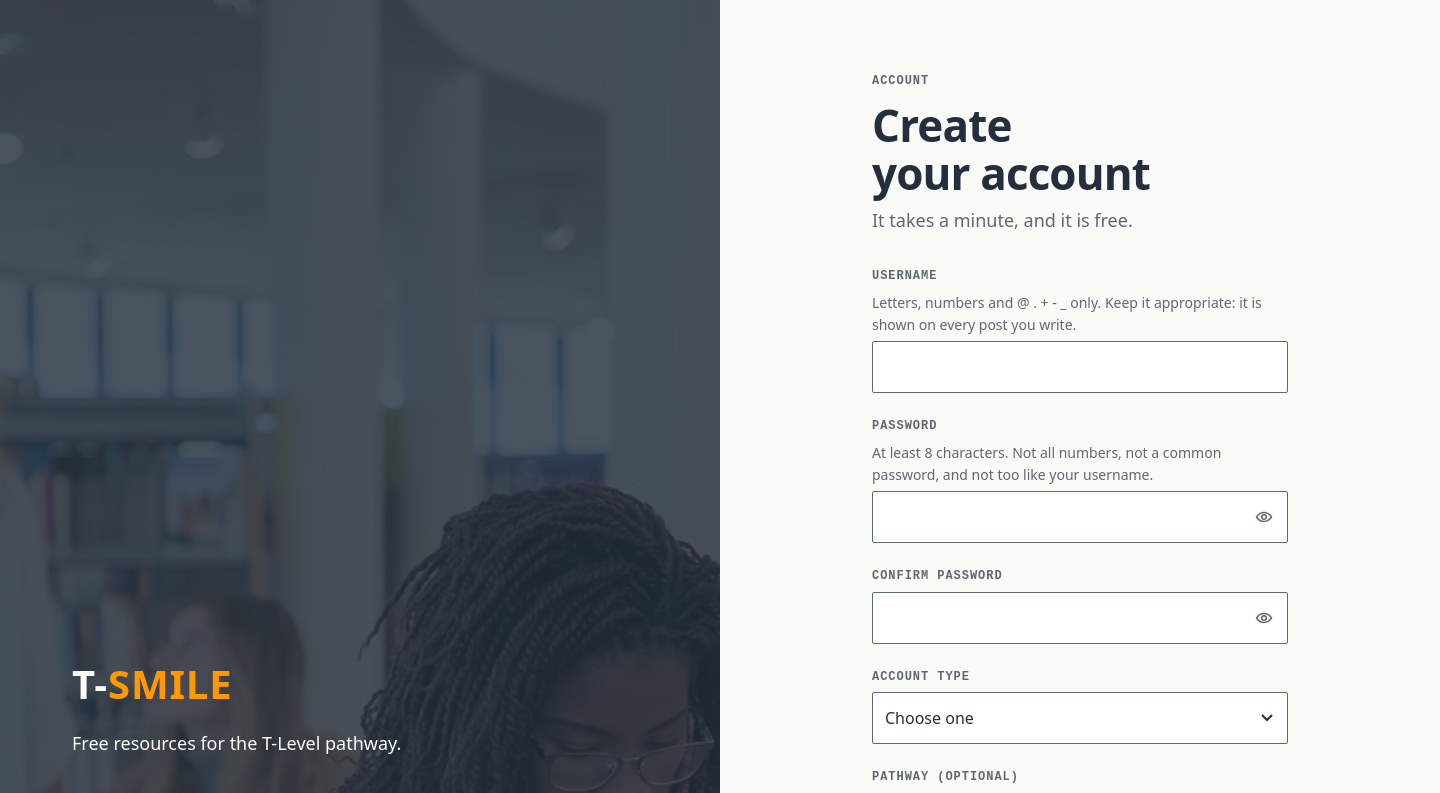
Scenario: Sign up: the username field › refuses an empty username without asking the server
Type "harbour-lantern-47" into the password field labelled "Password" at (1080, 517), box [872,491,1288,543]
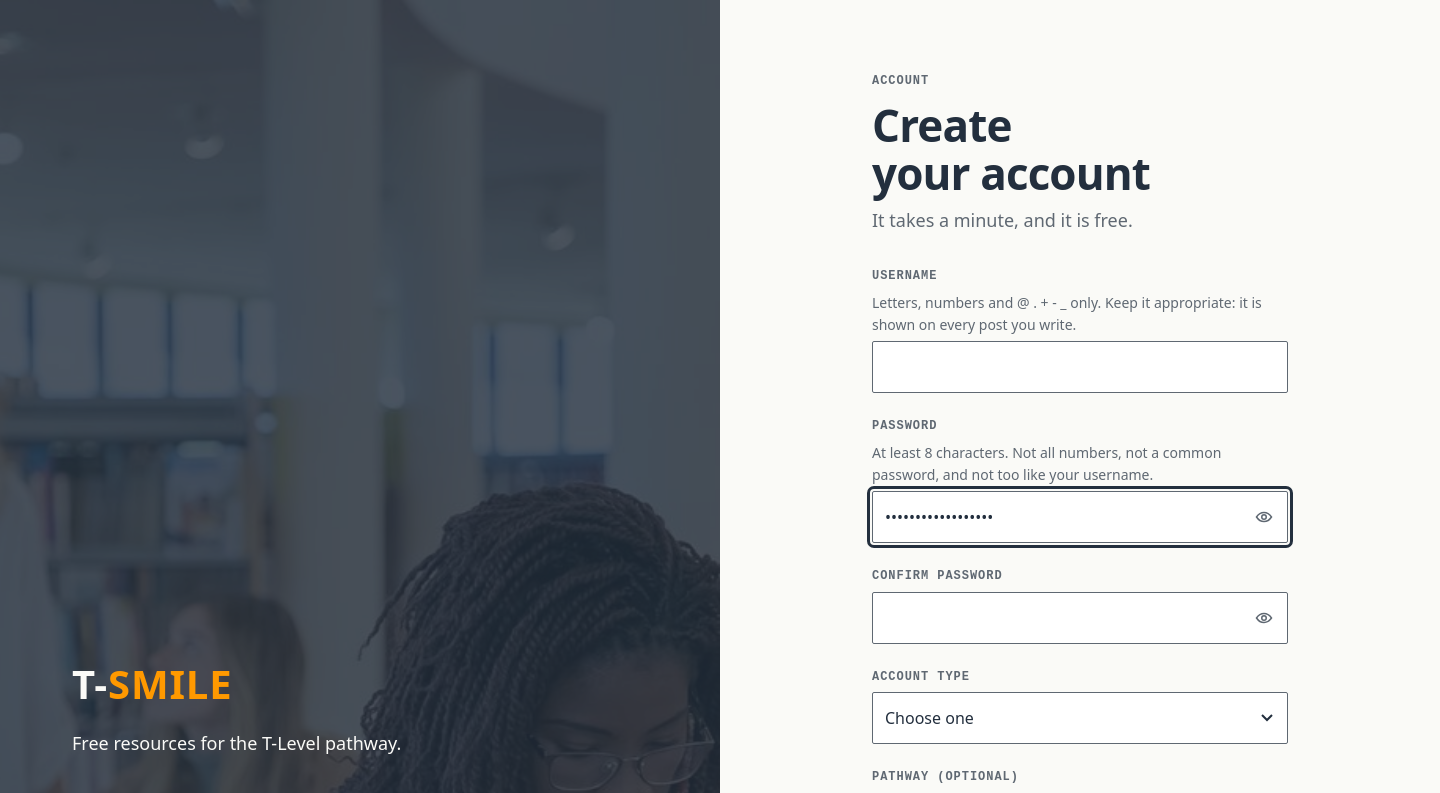
Type "harbour-lantern-47" into the password field labelled "Confirm password" at (1080, 618), box [872,592,1288,644]
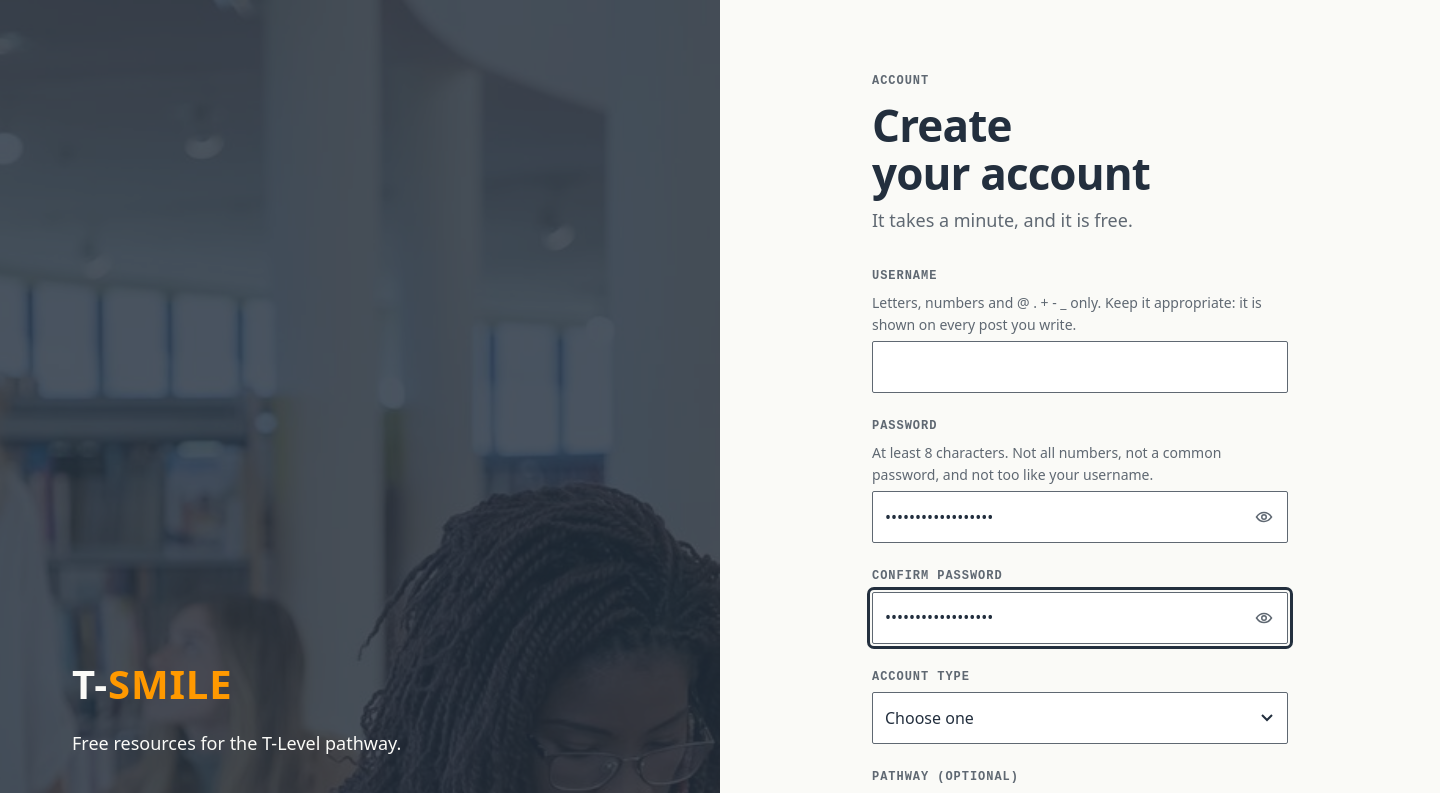
Select "Student" in the dropdown labelled "Account type" at (1080, 718), box [872,692,1288,744]
(page scrolled)
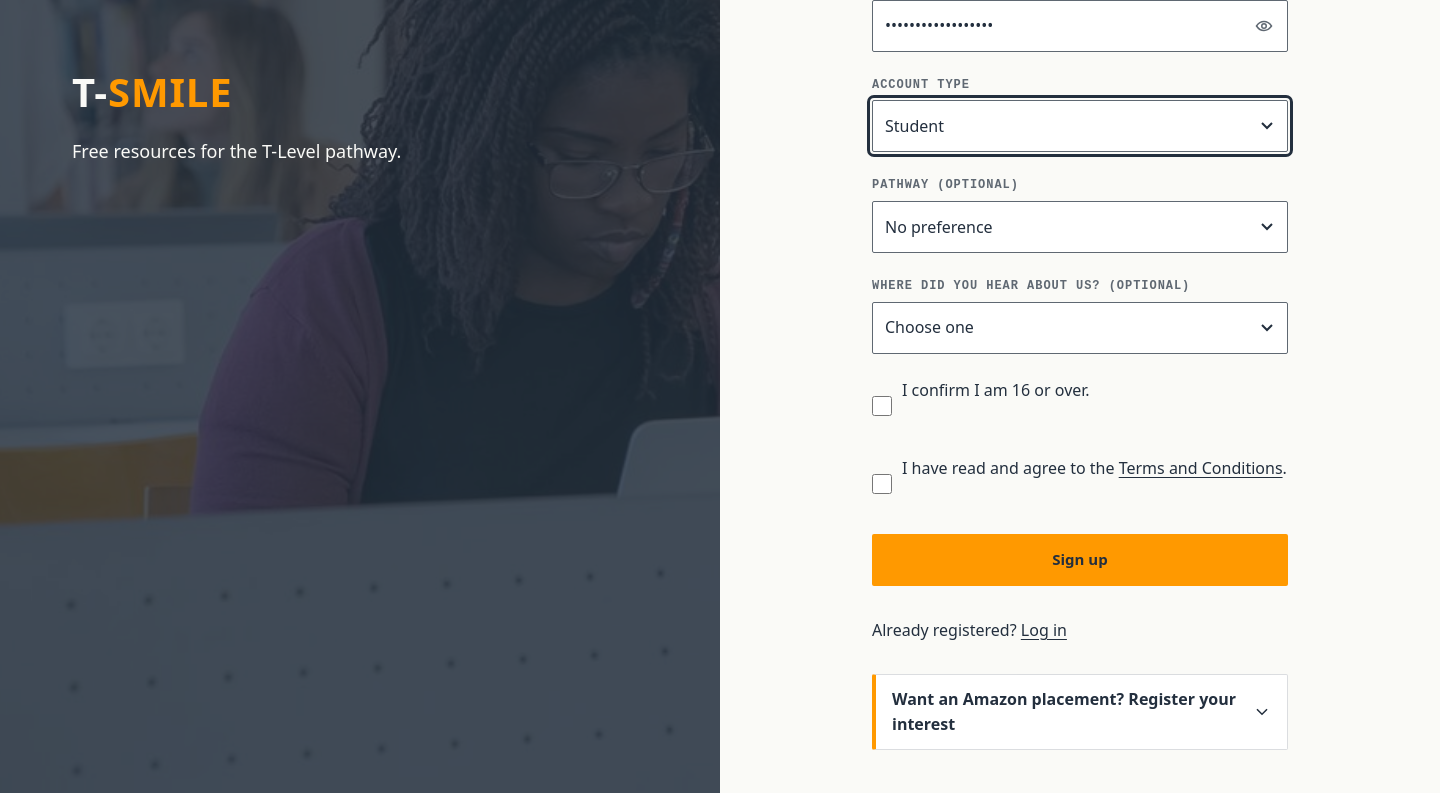
Click the checkbox labelled "I confirm I am 16 or over." at (882, 406), box [872,380,892,432]
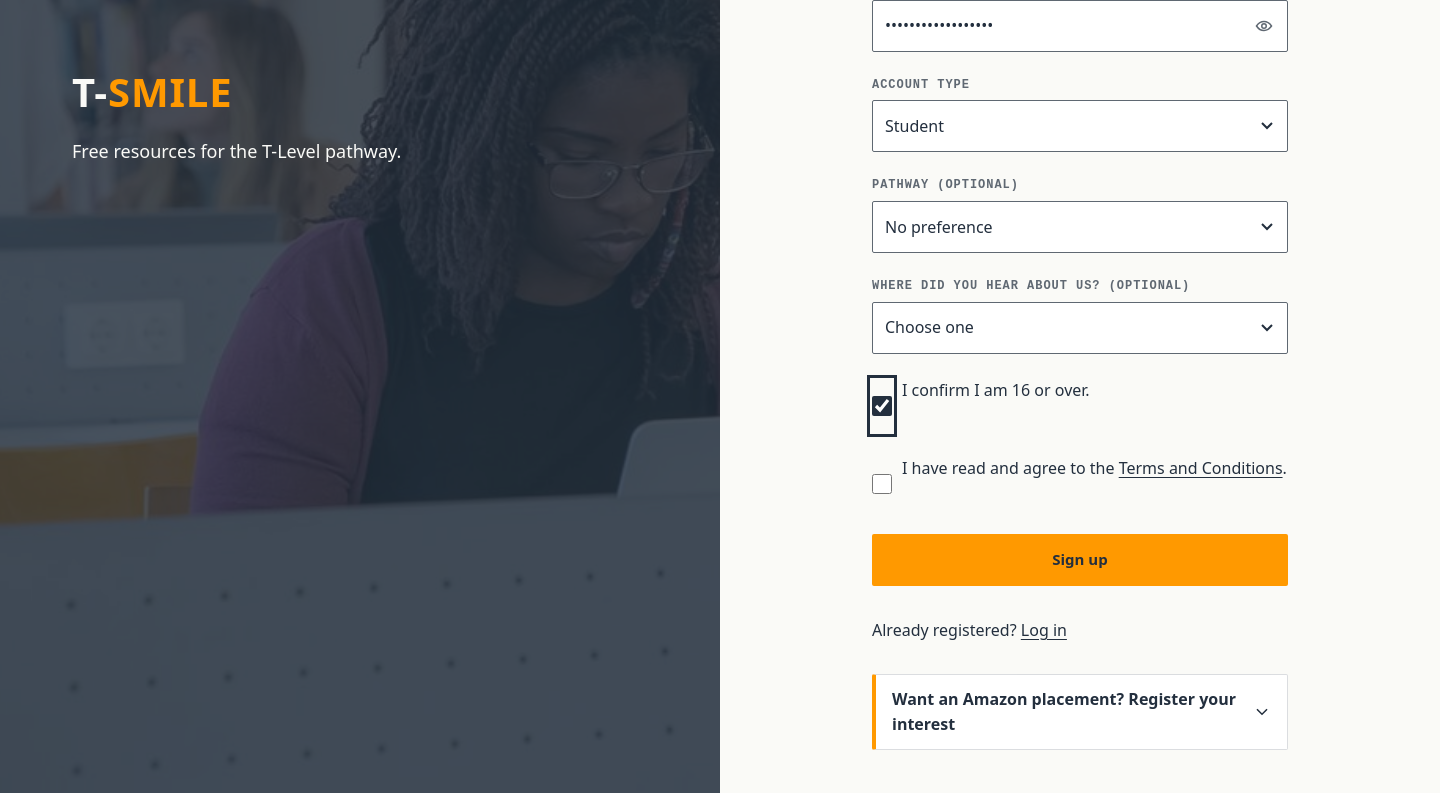
Click the checkbox labelled "I have read and agree to the Terms and Conditions ." at (882, 484), box [872,458,892,510]
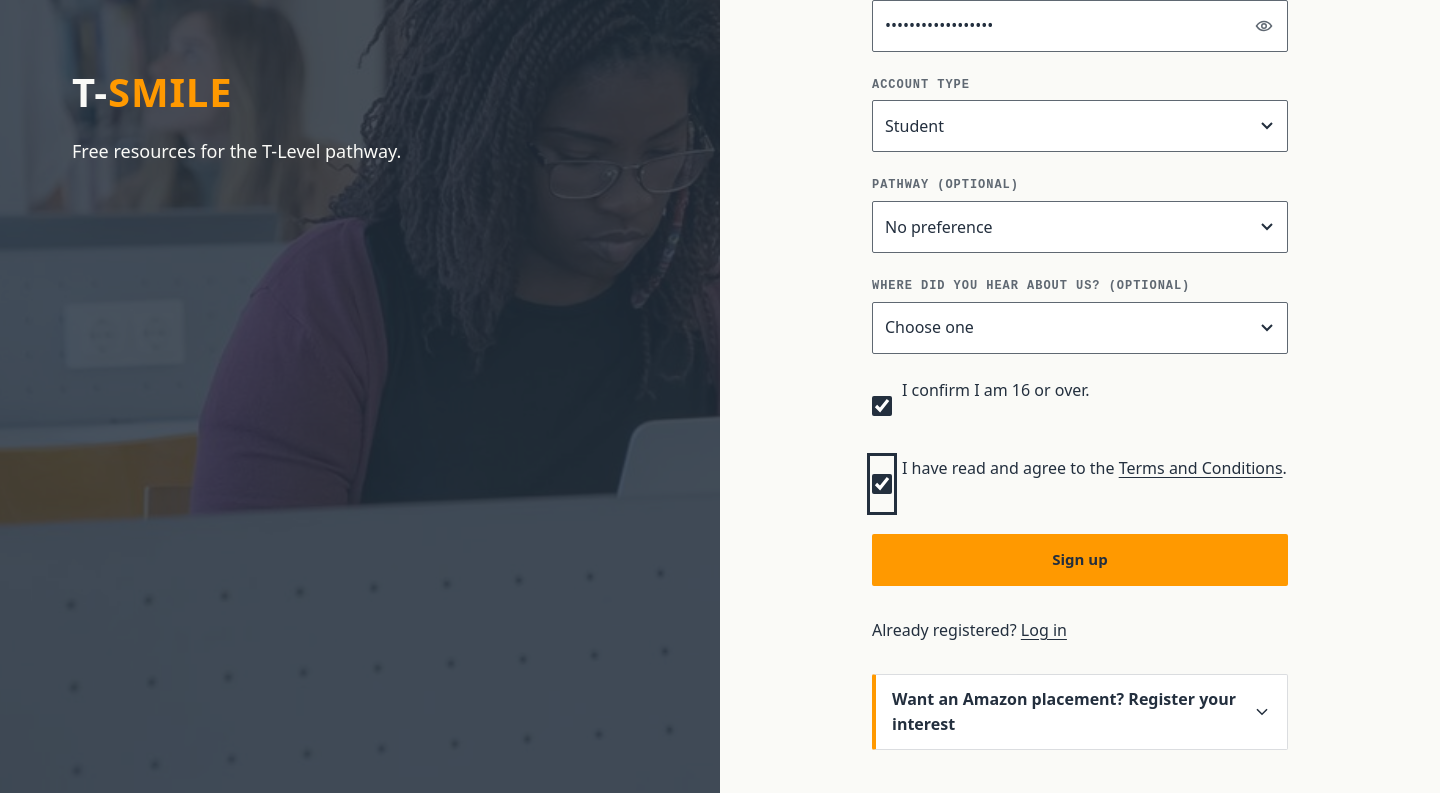
Click the button "Sign up" at (1080, 560), box [872,534,1288,586]
(page scrolled)
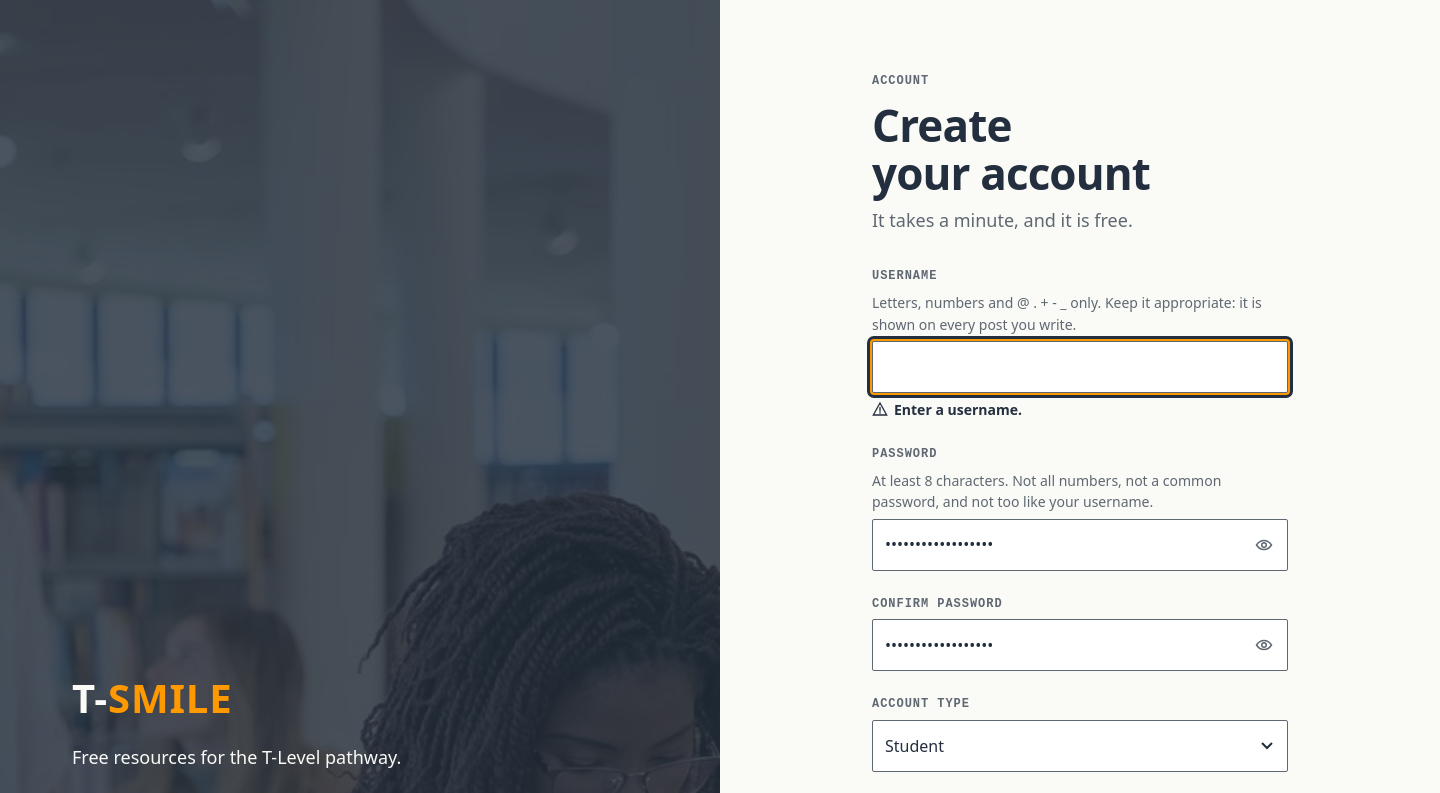
expect the text "Enter a username." is shown: met, box [872,400,1022,419]
